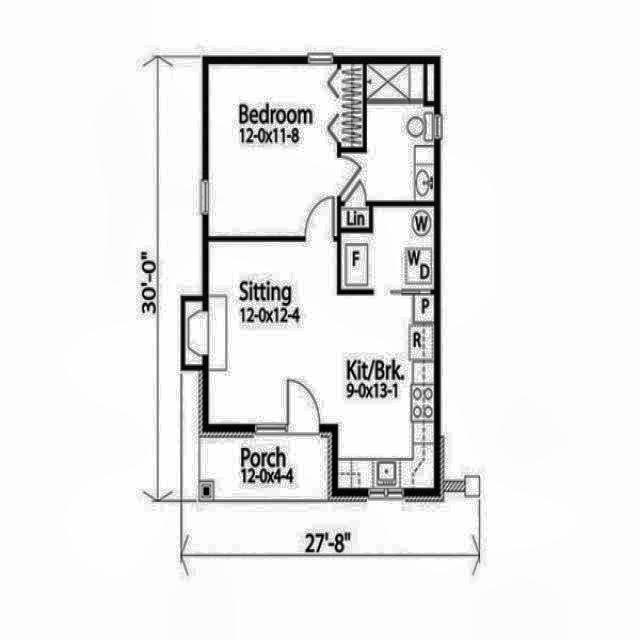room: (208, 241, 436, 489), (209, 64, 363, 237), (340, 64, 435, 228), (200, 437, 328, 501), (341, 206, 434, 289)
